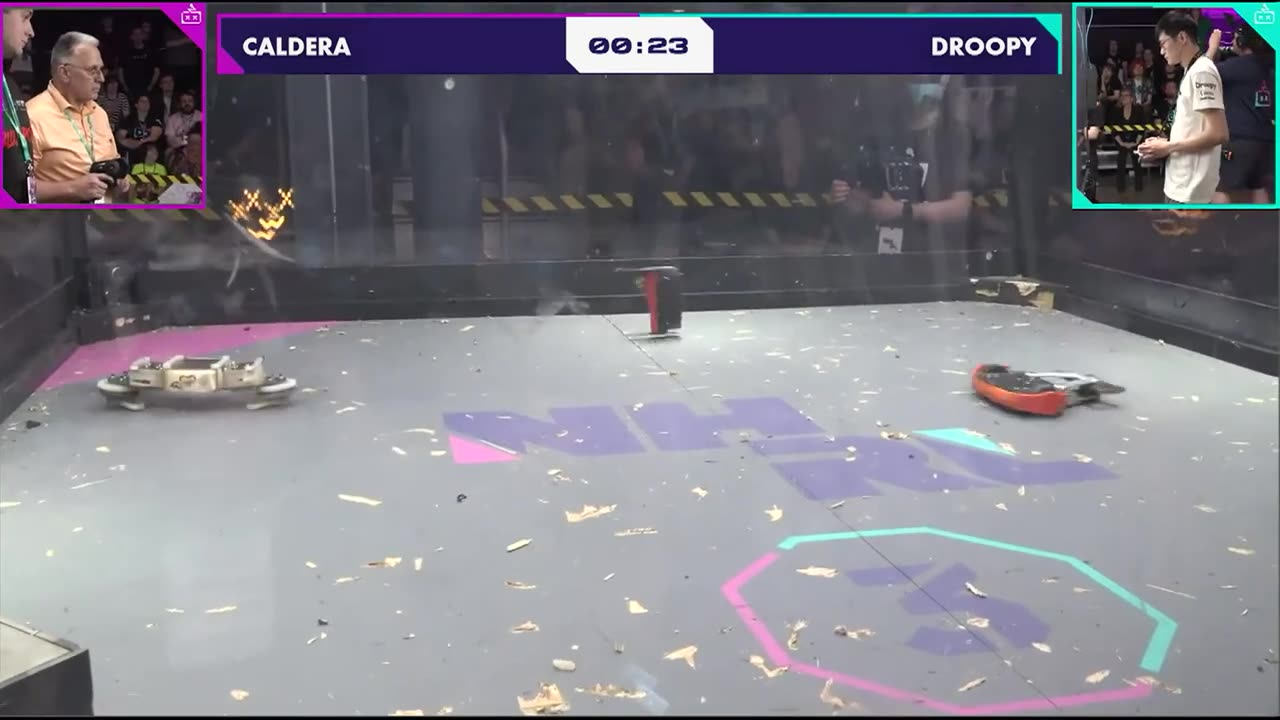combatbot: (97, 354, 301, 413), (968, 362, 1128, 419)
housebot: (0, 611, 93, 720)
minibot: (649, 263, 685, 339)
